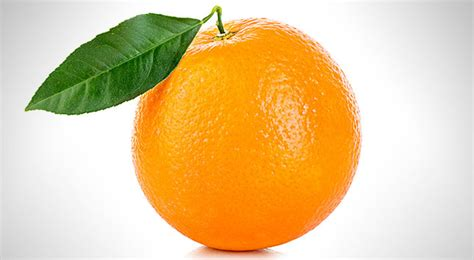orange: (128, 13, 364, 253)
